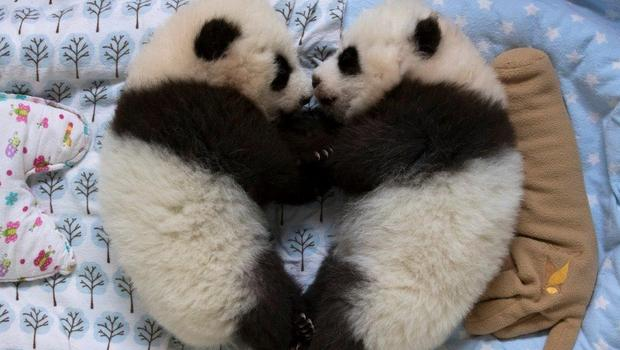panda: (302, 5, 512, 350), (111, 10, 323, 350)
